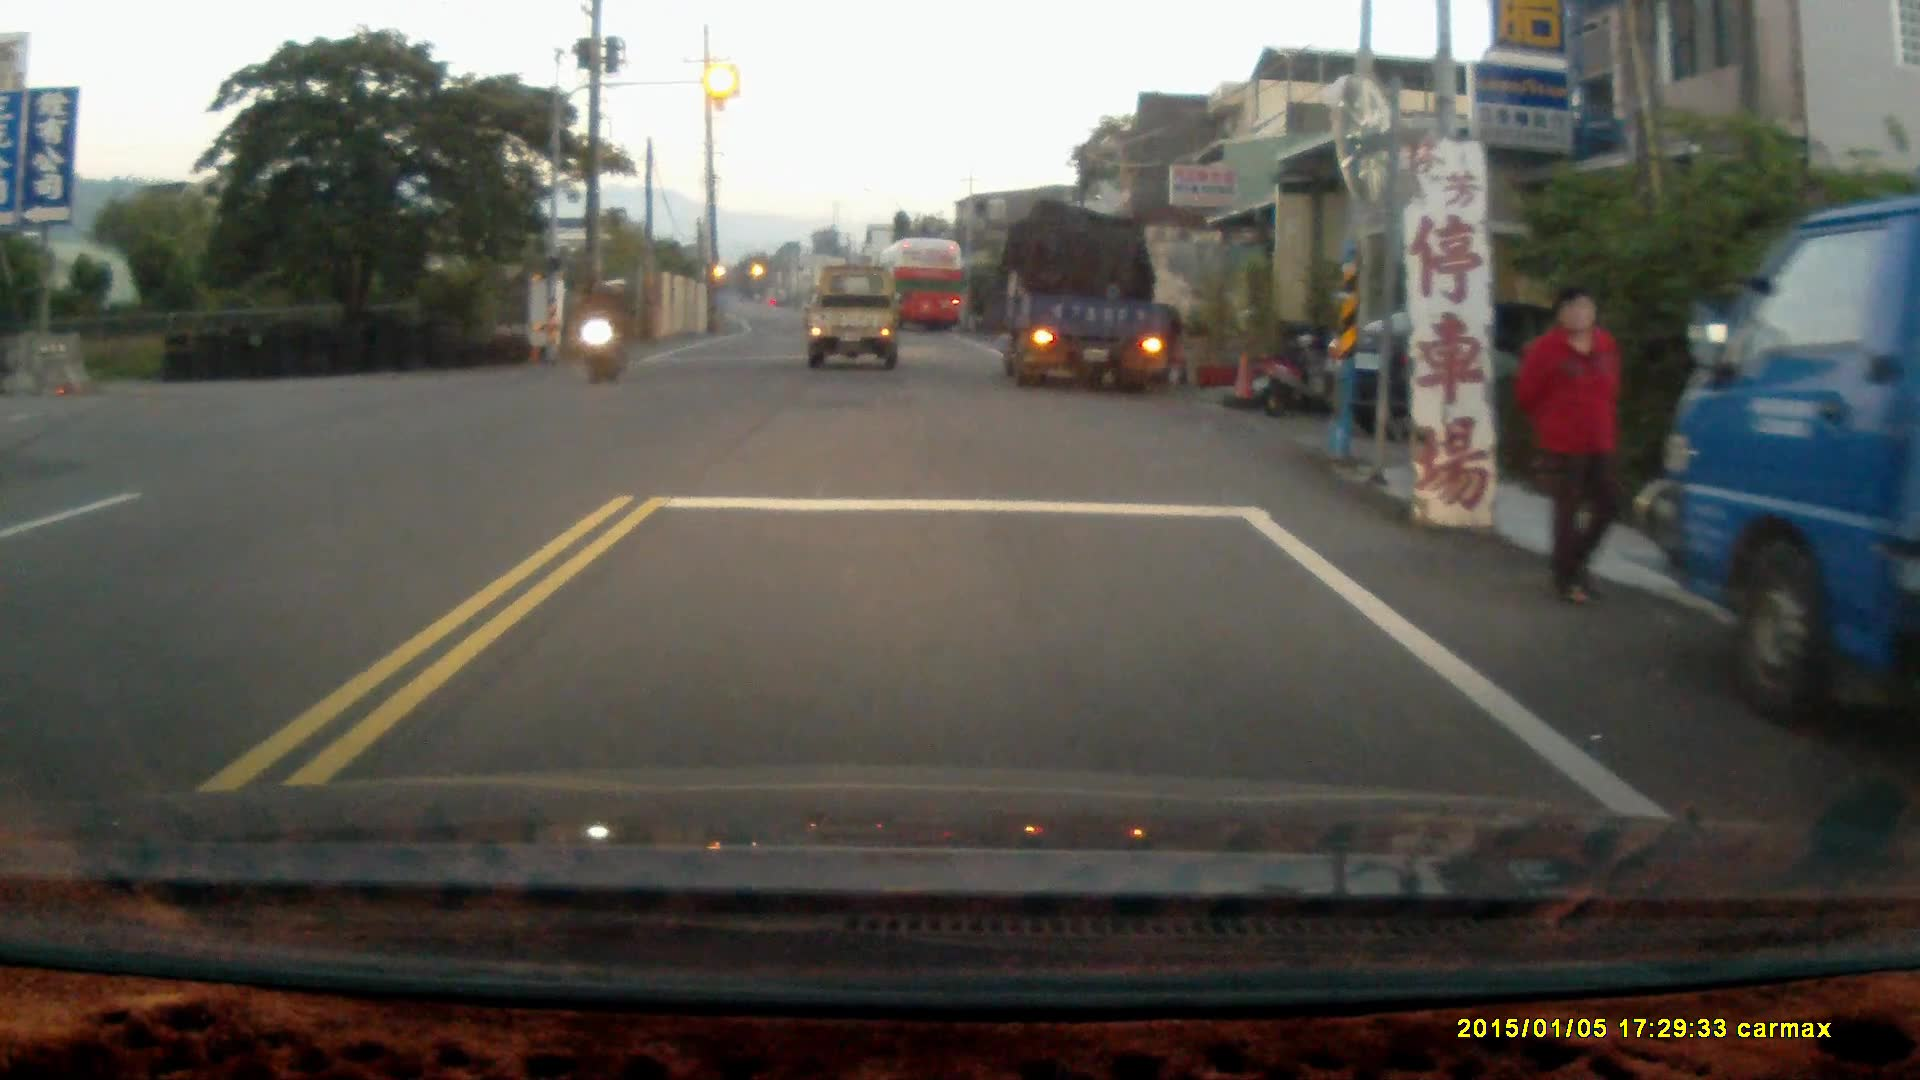pedestrian: (1515, 279, 1623, 604)
rider: (575, 274, 632, 384)
vehicle: (1662, 195, 1920, 699), (1330, 291, 1665, 445), (996, 199, 1179, 389), (805, 263, 901, 376), (877, 234, 970, 330)
